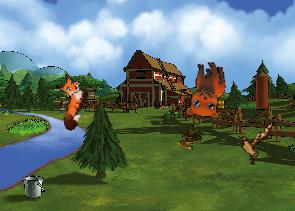bear: (183, 60, 226, 120)
eagle: (233, 116, 275, 168)
fox: (43, 71, 94, 132)
